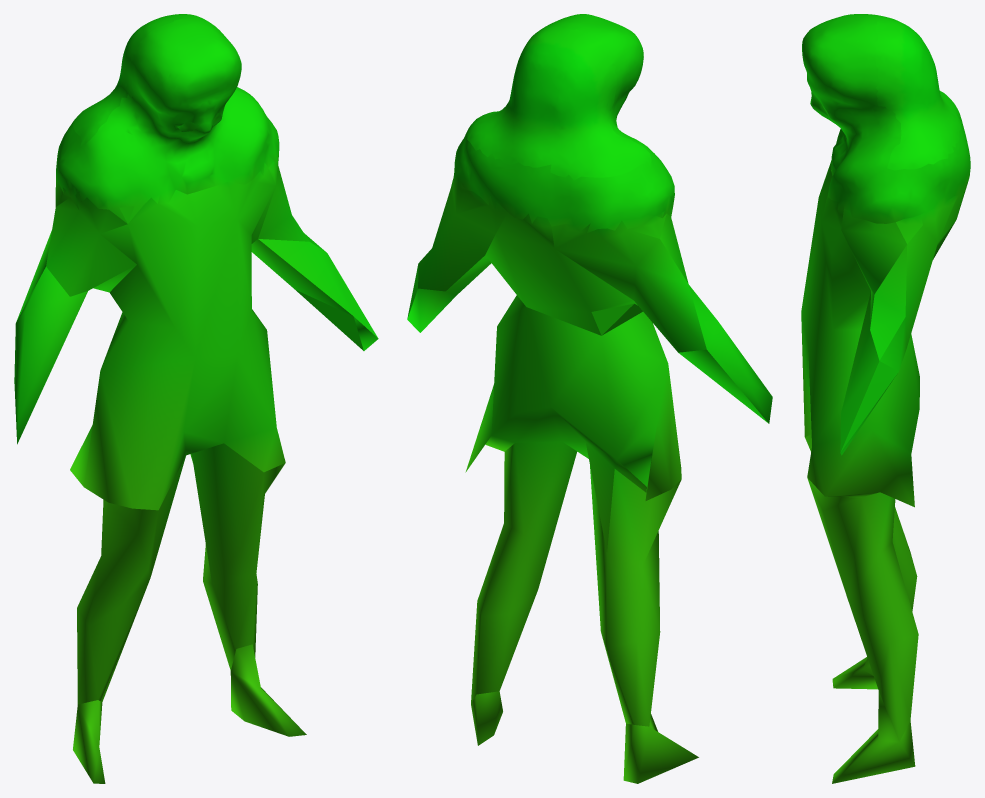
File: compose_hunter.glb
The picture shows the model from 3 angles, left to right: view 1: azimuth 30°, elevation 25°; view 2: azimuth 150°, elevation 25°; view 3: azimuth 270°, elevation 25°; orthographic projection.
Parts seen in each view (by area): view 1: compose_hunter; view 2: compose_hunter; view 3: compose_hunter.
Part boxes in pixels (box(x1,y1,x2,y2)): compose_hunter: box(14, 14, 378, 783); compose_hunter: box(407, 14, 772, 783); compose_hunter: box(801, 14, 970, 783).
Size of the model in its own units: 0.9635 by 1.84 by 0.3967.
